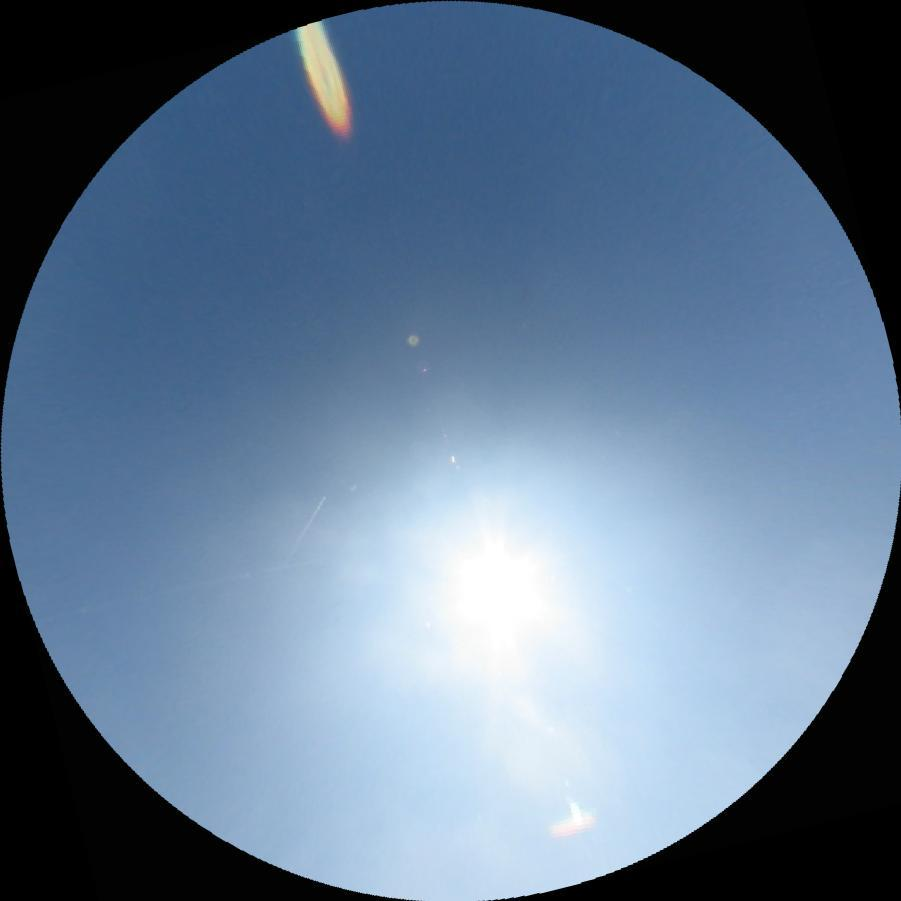contrail young: (285, 495, 326, 560)
sun: (404, 514, 580, 692)
